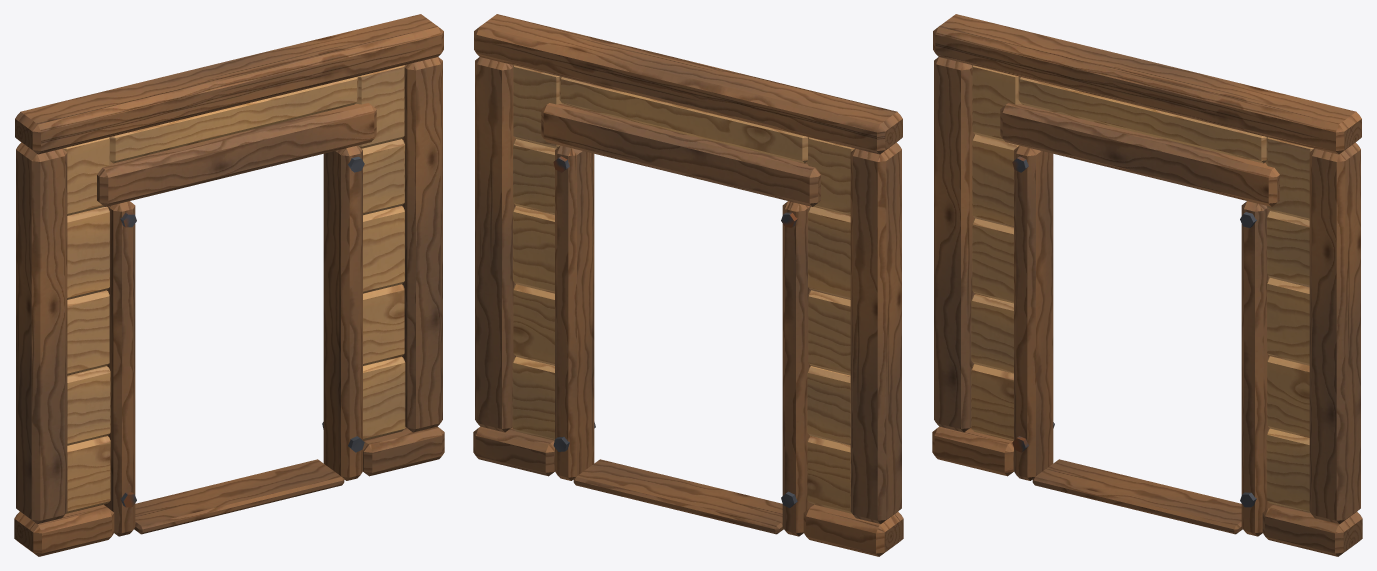
The model's file is kapi_kasasi.glb.
3 views of the same model, side by side, from view 1: azimuth 30°, elevation 25°; view 2: azimuth 150°, elevation 25°; view 3: azimuth 330°, elevation 25° (orthographic).
Parts seen in each view (by area): view 1: kapi_kasasi; view 2: kapi_kasasi; view 3: kapi_kasasi.
Part boxes in pixels (x1,y1,x2,y2): kapi_kasasi: (14, 14, 444, 556); kapi_kasasi: (473, 14, 903, 556); kapi_kasasi: (932, 14, 1362, 556).
Size of the model in its own units: 3 by 3.01 by 0.37.
Materials: 1 (1 with a texture image).
